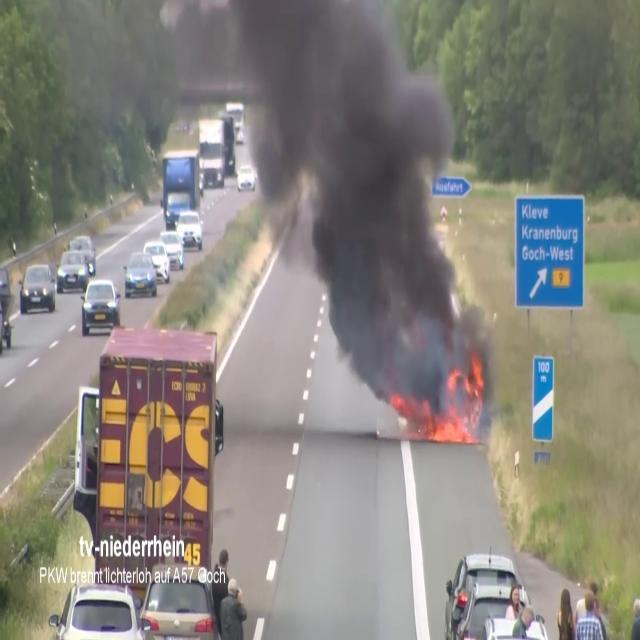Fire: (428, 353, 485, 442)
Smoke: (20, 3, 481, 406)
